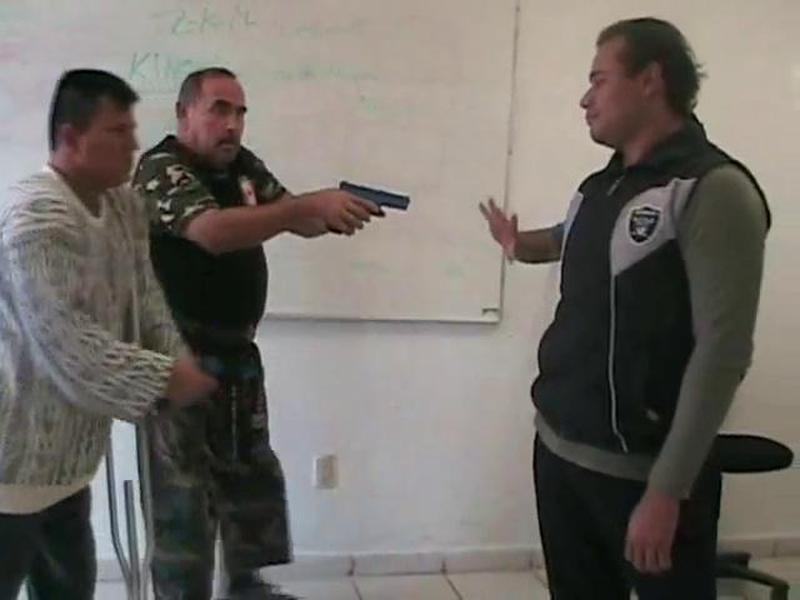Pistola: (334, 171, 415, 237)
